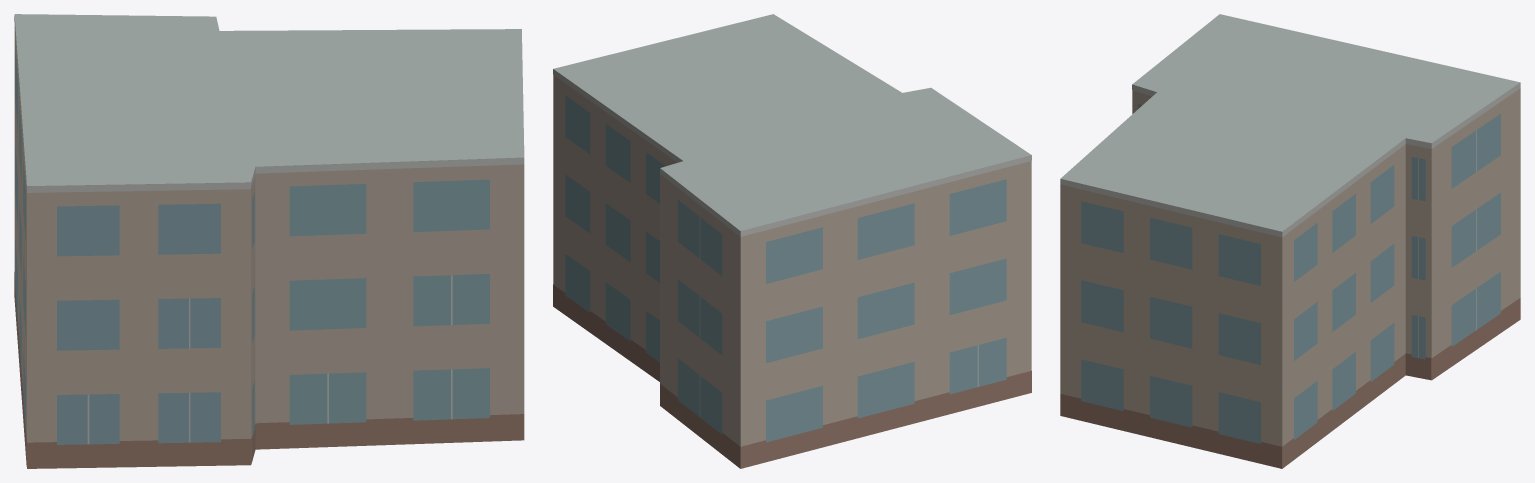
File: survey-upis-32737754.glb
3 renders of one model, left to right at view 1: azimuth 30°, elevation 25°; view 2: azimuth 150°, elevation 25°; view 3: azimuth 270°, elevation 25°, orthographic. The views are drawn at different scales.
Parts seen in each view (by area): view 1: survey-upis-32737754.tmp; view 2: survey-upis-32737754.tmp; view 3: survey-upis-32737754.tmp.
Part boxes in pixels (x1,y1,x2,y2): survey-upis-32737754.tmp: [14, 14, 524, 468]; survey-upis-32737754.tmp: [553, 14, 1031, 468]; survey-upis-32737754.tmp: [1060, 14, 1520, 468].
Bounding box in the file's own units: 19.9 × 10.1 × 17.78.
